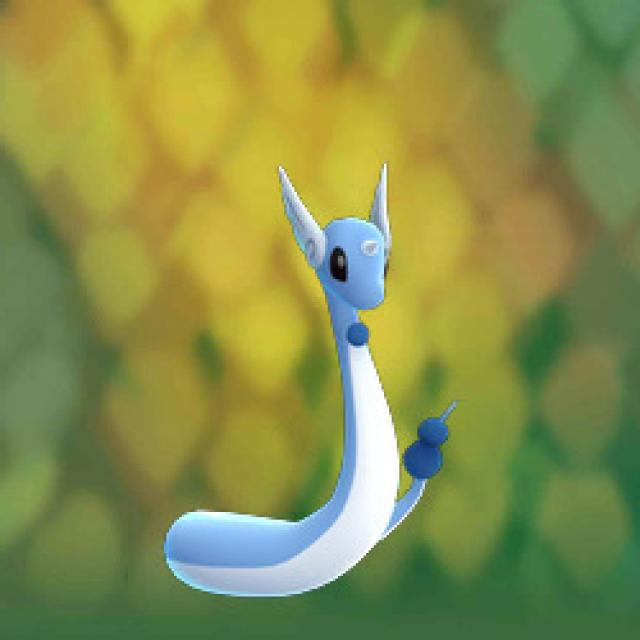Dragonair: (160, 162, 444, 595)
